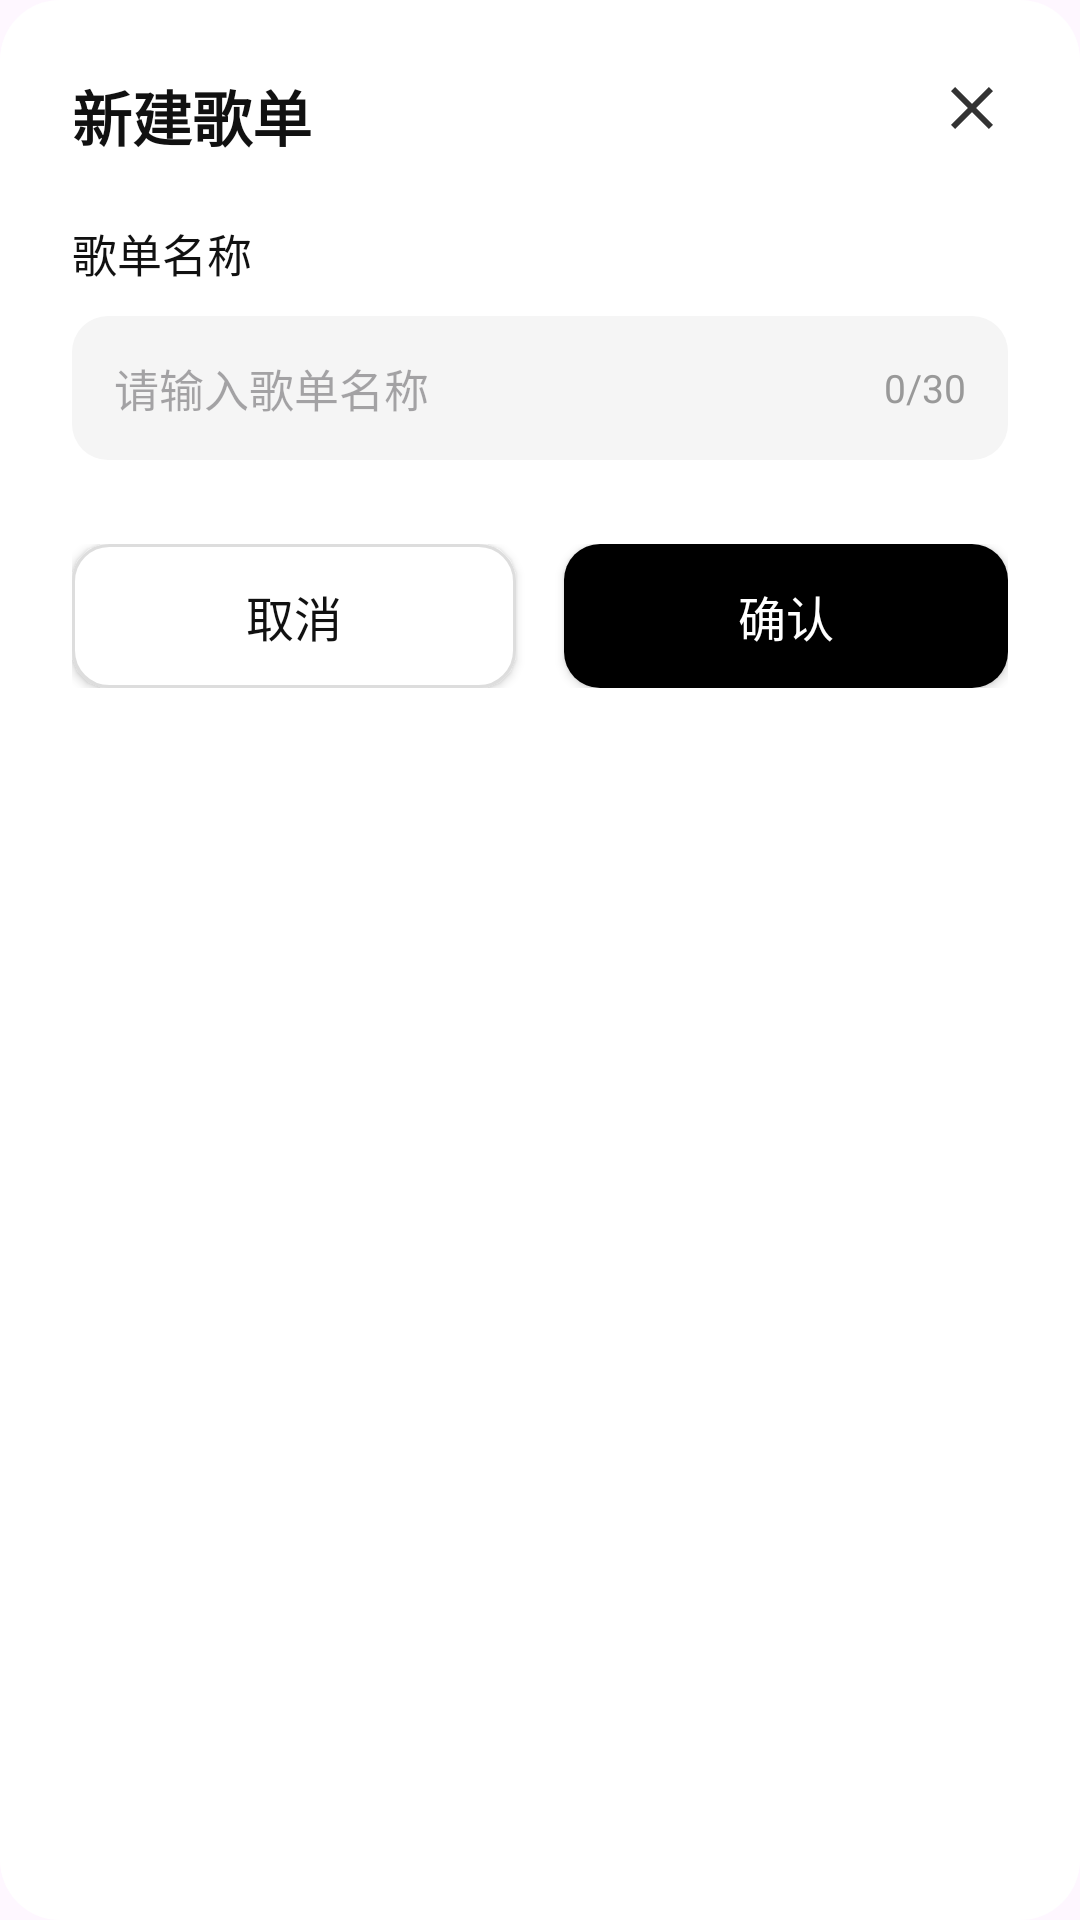

Screen size 1080 × 1920. Icon name, then its box in pixels as (x1, y1, x2, y2):
关闭弹窗: (951, 87, 993, 129)
